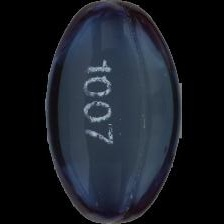50844-611: (0, 0, 224, 224)
